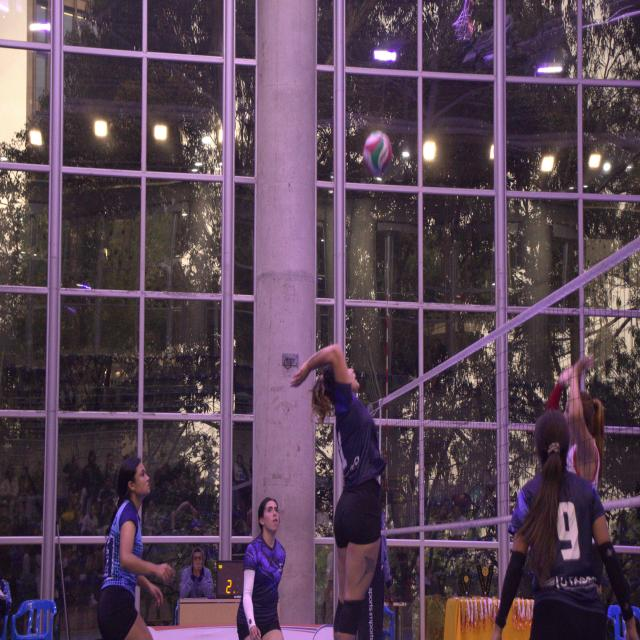volleyball: (363, 130, 393, 176)
